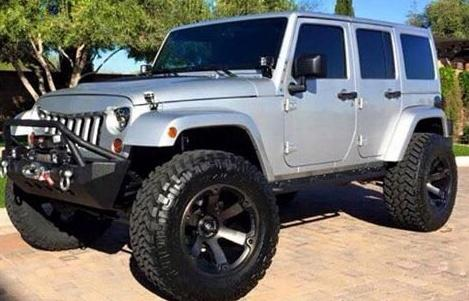SUV: (0, 13, 456, 300)
